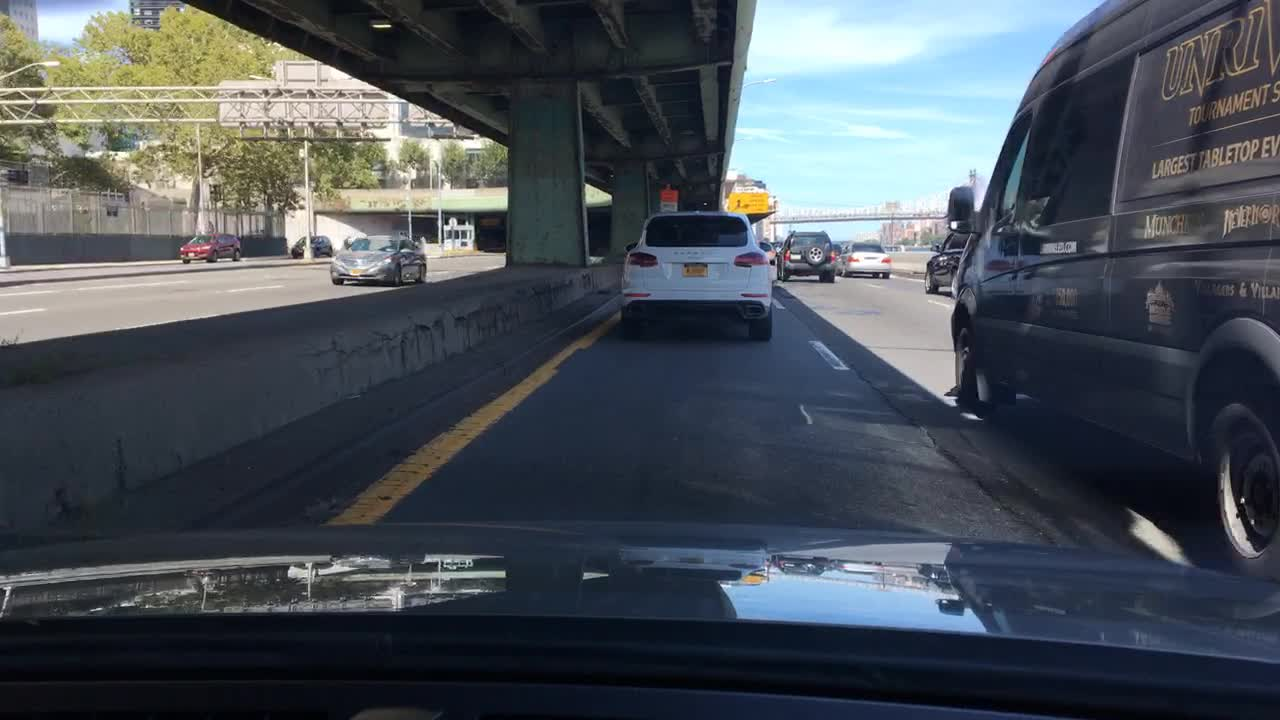car: (947, 0, 1277, 577), (619, 208, 774, 342), (924, 218, 999, 295), (330, 233, 428, 285), (777, 228, 841, 285), (836, 240, 891, 279), (180, 231, 244, 264), (292, 234, 333, 261), (757, 240, 778, 264), (773, 240, 784, 253)
traffic sign: (218, 79, 396, 123), (277, 60, 362, 83), (730, 191, 772, 208), (658, 188, 677, 212)
